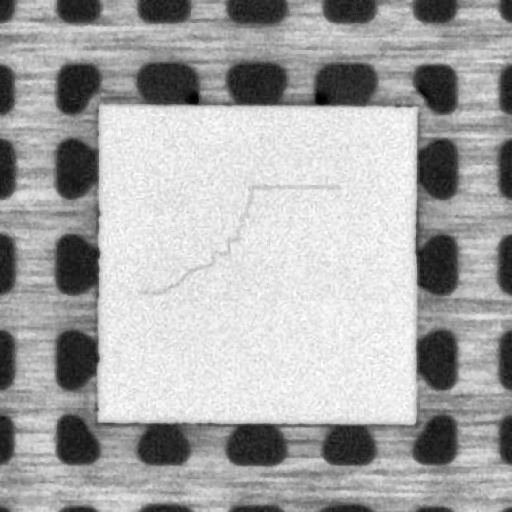DIE_CRACK: (136, 181, 342, 296)
